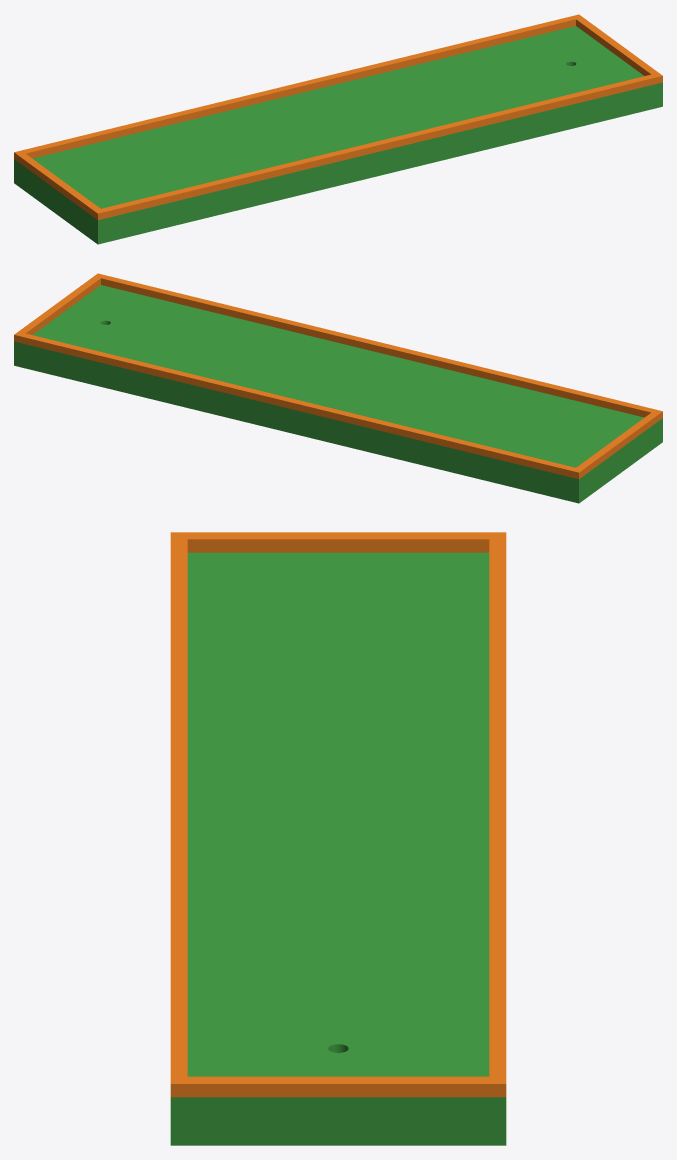
The model's file is tinker.obj.
The picture shows the model from 3 angles, top to bottom: view 1: azimuth 30°, elevation 25°; view 2: azimuth 150°, elevation 25°; view 3: azimuth 270°, elevation 25°; orthographic projection. The views are drawn at different scales.
Parts seen in each view (by area): view 1: group_0_4170049, group_0_16089887; view 2: group_0_4170049, group_0_16089887; view 3: group_0_4170049, group_0_16089887.
Boxes of the visible parts, box(x1,y1,x2,y2) form: group_0_4170049: box(14, 26, 662, 244); group_0_16089887: box(14, 14, 662, 220); group_0_4170049: box(14, 285, 662, 503); group_0_16089887: box(14, 273, 662, 479); group_0_4170049: box(170, 552, 506, 1145); group_0_16089887: box(170, 532, 506, 1097).
Bounding box in the file's own units: 158 × 8.26 × 40.67.
